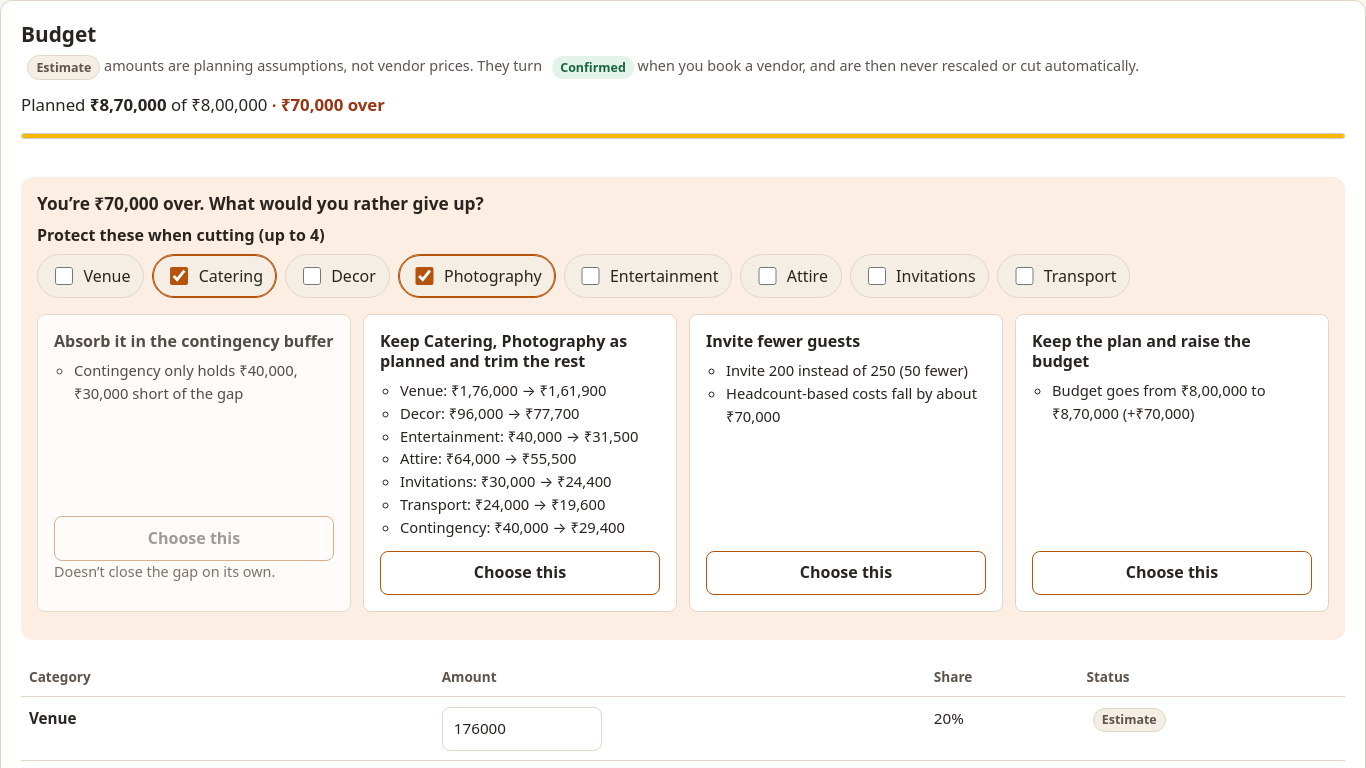
it: BudgetPanel › when the plan is over budget › says why priorities can't change once the event day arrives
Step 1. Click the checkbox labelled "Venue" → x=64, y=276, box x1=55 y1=267 x2=73 y2=285
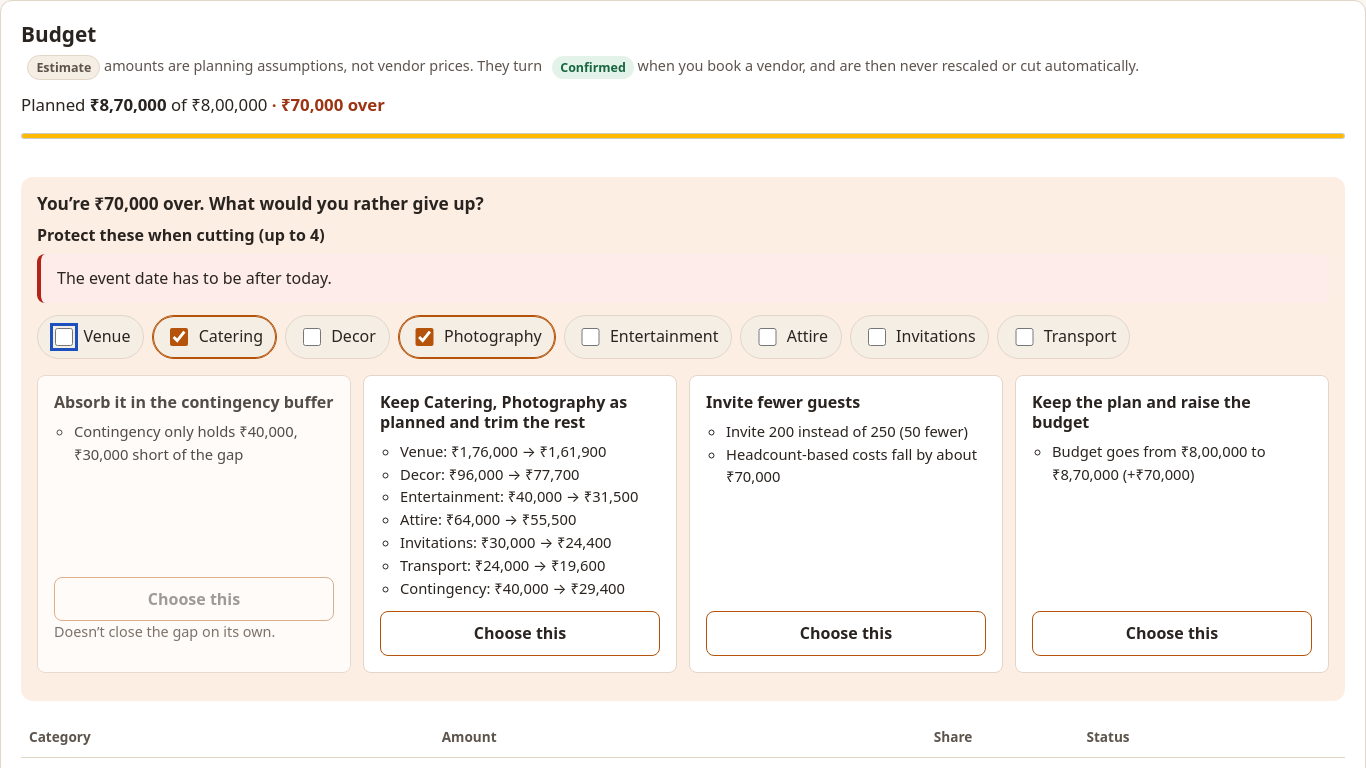
Check: the message reads "The event date has to be after today.", box x1=57 y1=267 x2=332 y2=289
